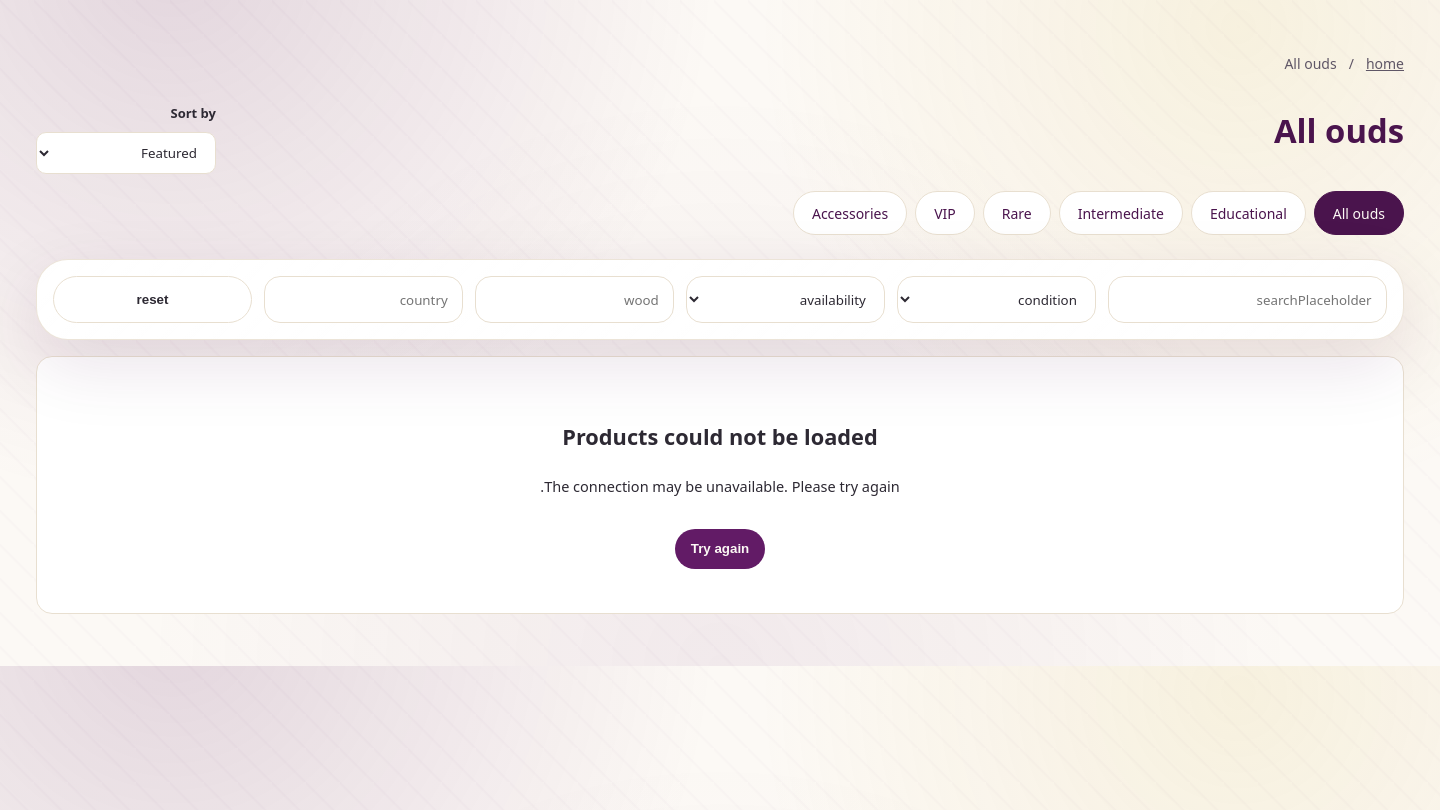
Test: catalogue request outcomes › distinguishes failure from no results and recovers through retry
The width and height of the screenshot is (1440, 810).
Check: the message shows "could not be loaded", box [562, 422, 878, 452]
Step 1. Click the button "Try again" → (720,549), box [675, 529, 765, 569]
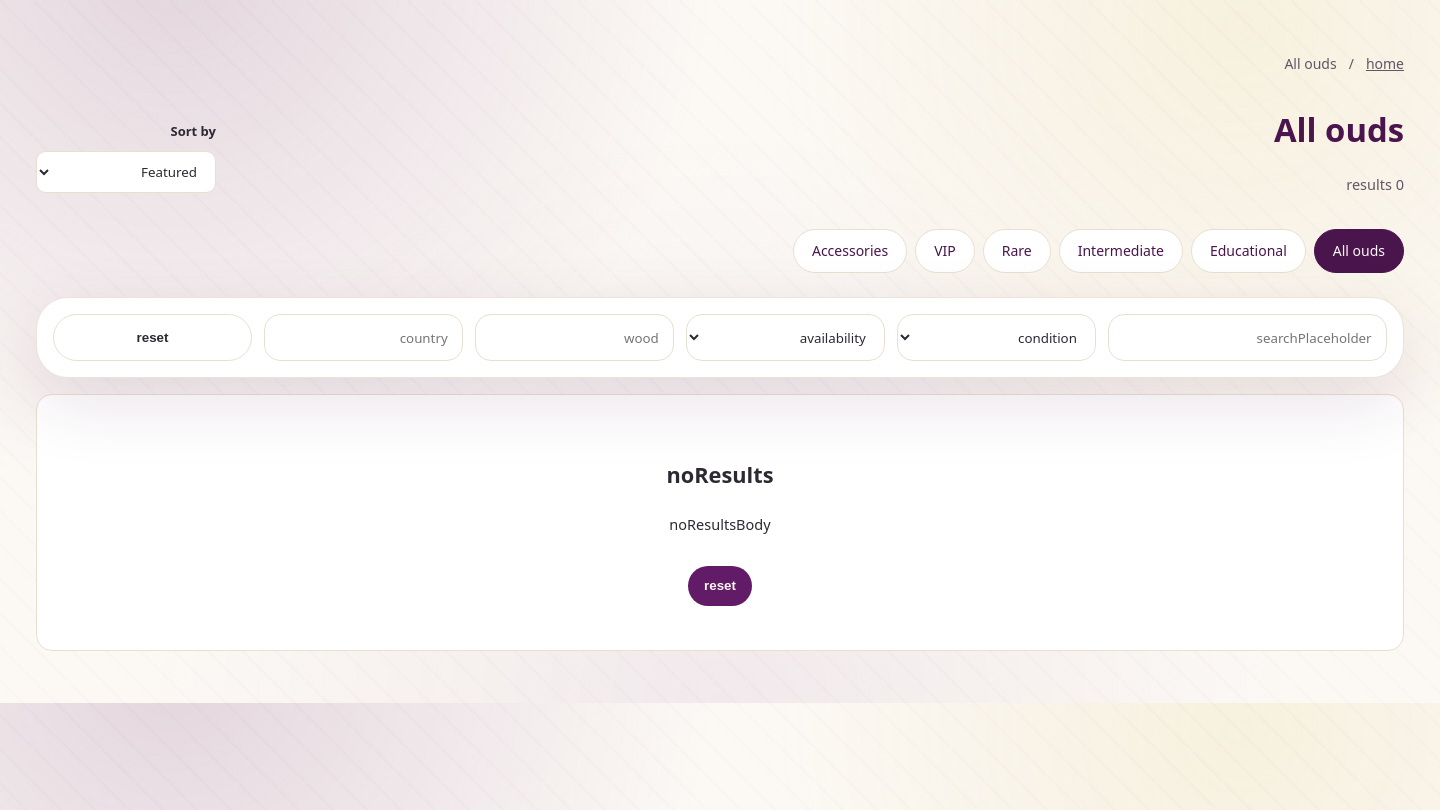
Check: the message is gone
Check: the message "noResults noResultsBody reset" is shown, box [36, 394, 1404, 651]
